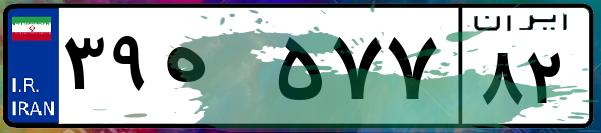2: (525, 38, 570, 115)
3: (57, 26, 110, 100)
5: (270, 28, 330, 110)
7: (385, 28, 445, 110), (330, 28, 385, 110)
8: (475, 38, 525, 113)
9: (110, 28, 158, 98)
ه: (158, 20, 270, 120)
